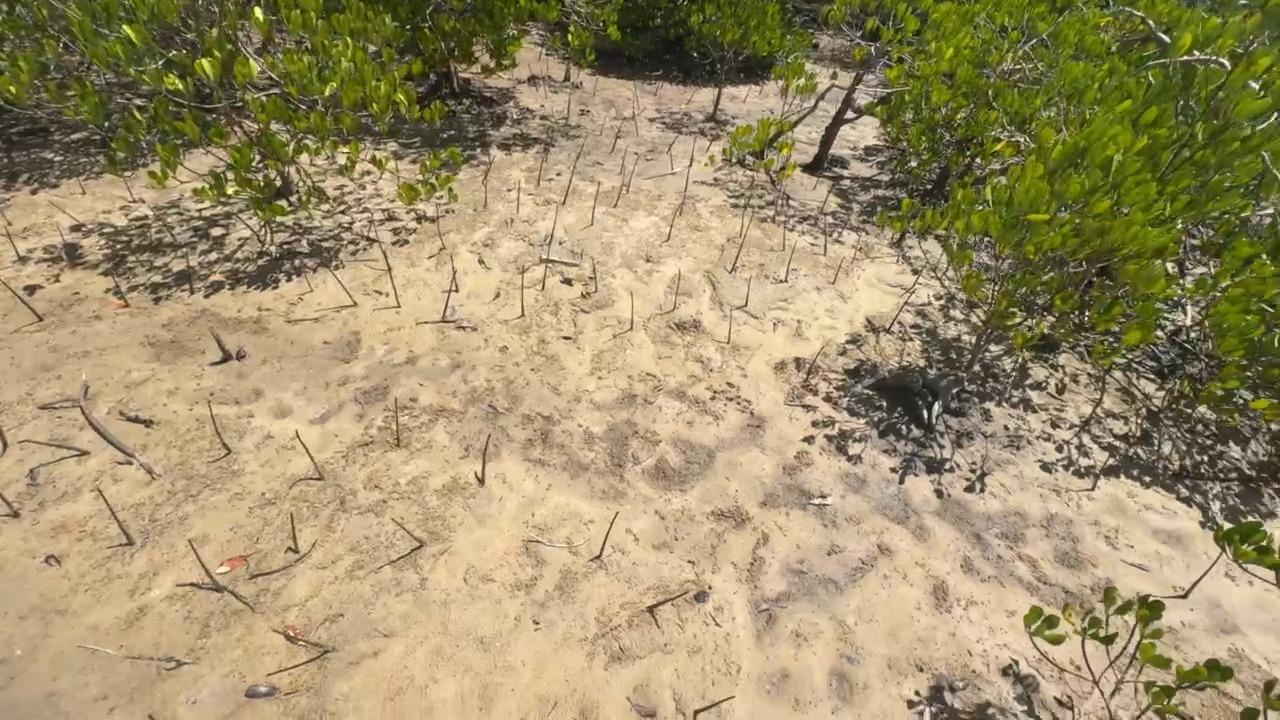Tree: (1182, 519, 1280, 600), (191, 168, 261, 244), (75, 644, 190, 665), (96, 487, 134, 545), (187, 538, 225, 594), (0, 278, 44, 321), (99, 151, 136, 202), (430, 187, 460, 249), (269, 625, 333, 654), (729, 211, 754, 274), (325, 264, 359, 307), (295, 429, 324, 479), (886, 287, 918, 332), (207, 400, 232, 452), (16, 439, 90, 455), (147, 204, 177, 242), (390, 517, 424, 546), (599, 511, 619, 557), (441, 268, 459, 319), (371, 221, 390, 269), (899, 264, 926, 297), (802, 345, 825, 382), (207, 325, 231, 360), (646, 591, 689, 609), (47, 200, 80, 223), (694, 695, 736, 713), (562, 156, 577, 206), (679, 163, 692, 216), (1091, 456, 1111, 490), (386, 266, 402, 308), (3, 226, 22, 261), (110, 271, 129, 306), (389, 150, 409, 183), (667, 202, 684, 240), (784, 239, 799, 282), (819, 181, 836, 214), (0, 492, 21, 518), (481, 434, 491, 486), (613, 165, 625, 208), (609, 120, 624, 154), (626, 155, 639, 193), (481, 155, 497, 185), (831, 256, 846, 285), (537, 151, 549, 187), (548, 203, 558, 246), (290, 512, 300, 553), (591, 181, 600, 226), (449, 253, 459, 292), (673, 268, 682, 310), (394, 396, 401, 446), (185, 251, 193, 294), (575, 134, 588, 160), (528, 64, 539, 93), (619, 145, 629, 174), (632, 98, 639, 137), (665, 135, 679, 154), (689, 135, 698, 164), (591, 257, 598, 293), (744, 275, 752, 306), (633, 80, 641, 109), (685, 88, 698, 105), (55, 224, 66, 243), (541, 262, 548, 291), (541, 71, 548, 100), (739, 208, 746, 237), (629, 291, 634, 330), (727, 306, 732, 345), (0, 210, 12, 226), (517, 179, 522, 214), (824, 214, 828, 257), (77, 176, 86, 195), (303, 273, 312, 291), (521, 264, 524, 316), (705, 137, 714, 153), (566, 92, 571, 120), (743, 86, 751, 103), (782, 219, 786, 252), (484, 177, 488, 209), (593, 76, 599, 97), (668, 150, 674, 170), (811, 177, 819, 190), (654, 82, 660, 97), (537, 48, 543, 60), (545, 56, 549, 72)
